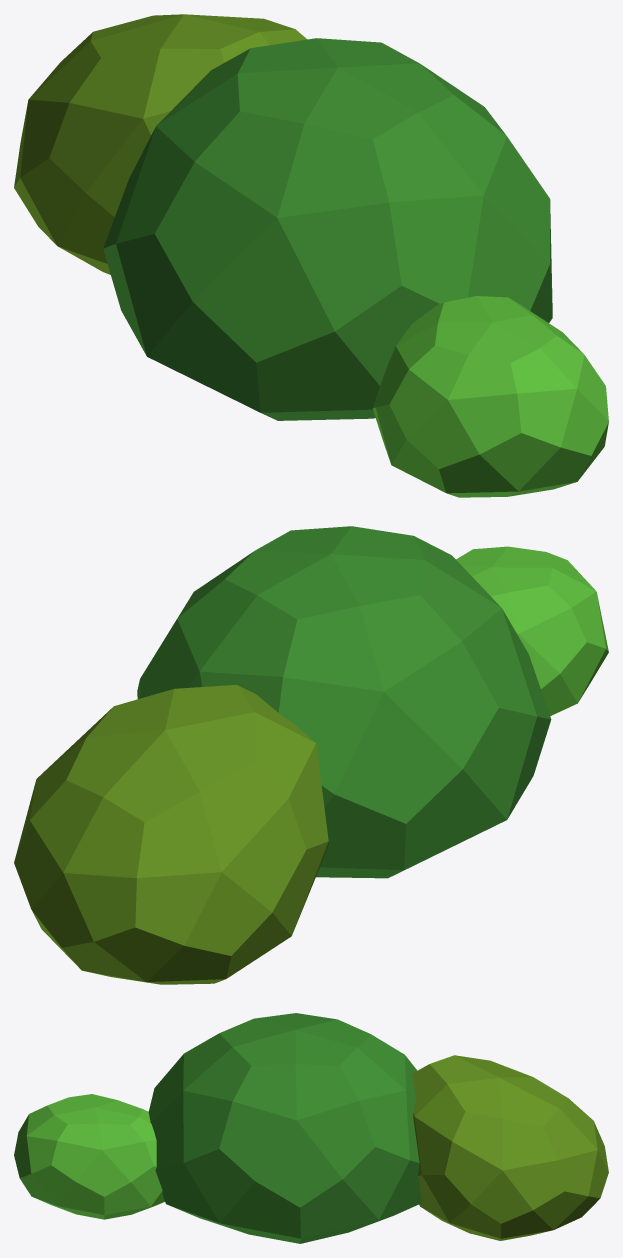
The model's file is arbustos.glb.
The picture shows the model from 3 angles, top to bottom: view 1: azimuth 30°, elevation 25°; view 2: azimuth 150°, elevation 25°; view 3: azimuth 270°, elevation 25°; orthographic projection. The views are drawn at different scales.
Visible parts, largest first — view 1: Icosphere, Icosphere.001, Icosphere.002; view 2: Icosphere, Icosphere.002, Icosphere.001; view 3: Icosphere, Icosphere.002, Icosphere.001.
Boxes of the visible parts, box(x1,y1,x2,y2) form: Icosphere: box(103, 38, 552, 420); Icosphere.001: box(372, 296, 608, 497); Icosphere.002: box(14, 14, 307, 274); Icosphere: box(137, 526, 551, 878); Icosphere.002: box(14, 684, 328, 984); Icosphere.001: box(456, 546, 608, 715); Icosphere: box(148, 1013, 421, 1243); Icosphere.002: box(412, 1055, 608, 1240); Icosphere.001: box(14, 1094, 164, 1219).
Size of the model in its own units: 1.92 by 1.52 by 4.26.
